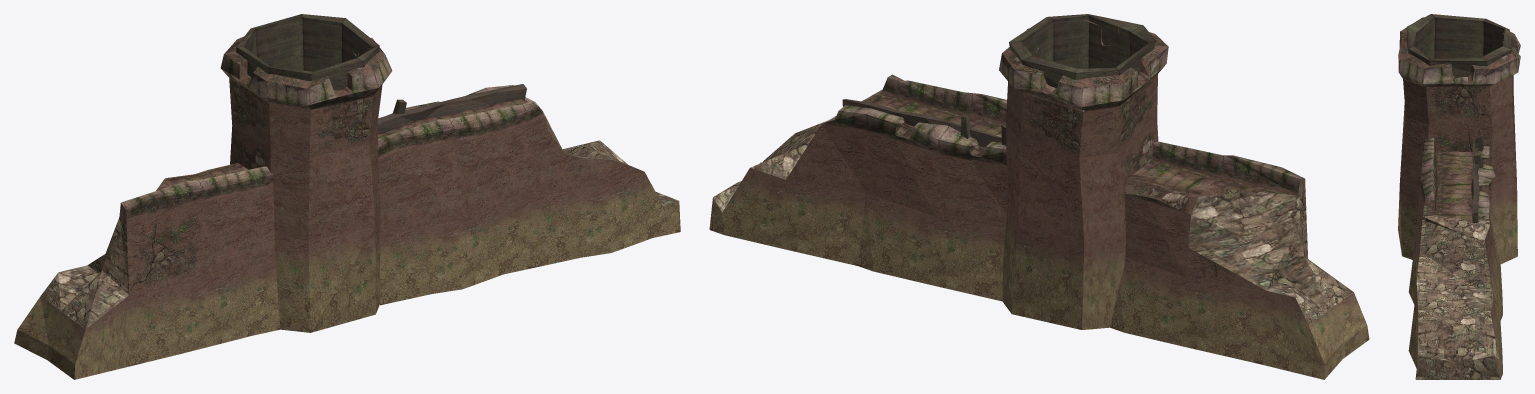
File: C1SMOFORT_H.obj
3 renders of one model, left to right at view 1: azimuth 30°, elevation 25°; view 2: azimuth 150°, elevation 25°; view 3: azimuth 270°, elevation 25°, orthographic. The views are drawn at different scales.
Visible parts, largest first — view 1: Node 0; view 2: Node 0; view 3: Node 0.
Part boxes in pixels (box(x1,y1,x2,y2)): Node 0: box(14, 14, 680, 379); Node 0: box(709, 14, 1369, 379); Node 0: box(1398, 14, 1520, 379).
Bounding box in the file's own units: 41.24 × 16.42 × 8.84.
Materials: 4 (4 with a texture image).
